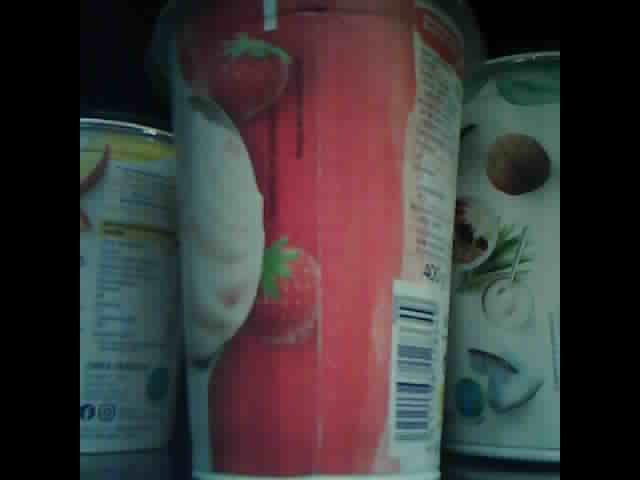alpro: (144, 1, 479, 480), (450, 47, 559, 458), (80, 108, 181, 455)
